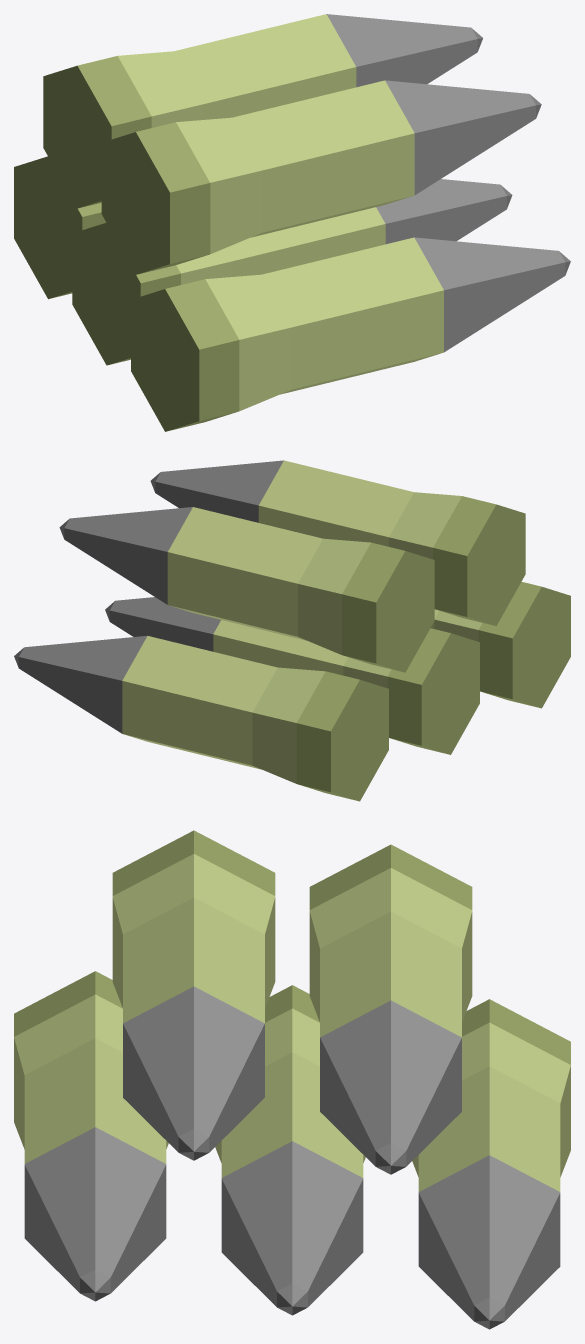
File: item_shell_toxic_c.obj
3 views of the same model, one above another, from view 1: azimuth 30°, elevation 25°; view 2: azimuth 150°, elevation 25°; view 3: azimuth 270°, elevation 25° (orthographic). The views are drawn at different scales.
Bounding box in the file's own units: 0.7854 × 0.4409 × 0.6994.
